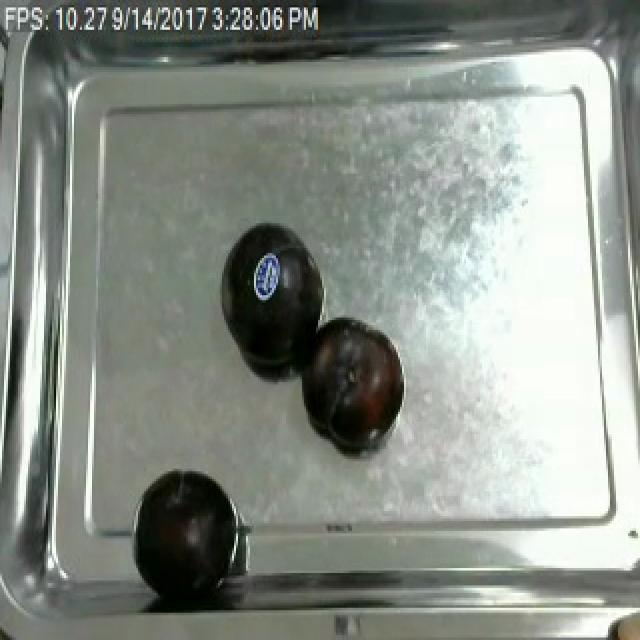Fruit: (214, 213, 330, 377), (296, 313, 406, 452), (132, 464, 240, 600), (598, 603, 640, 640)
